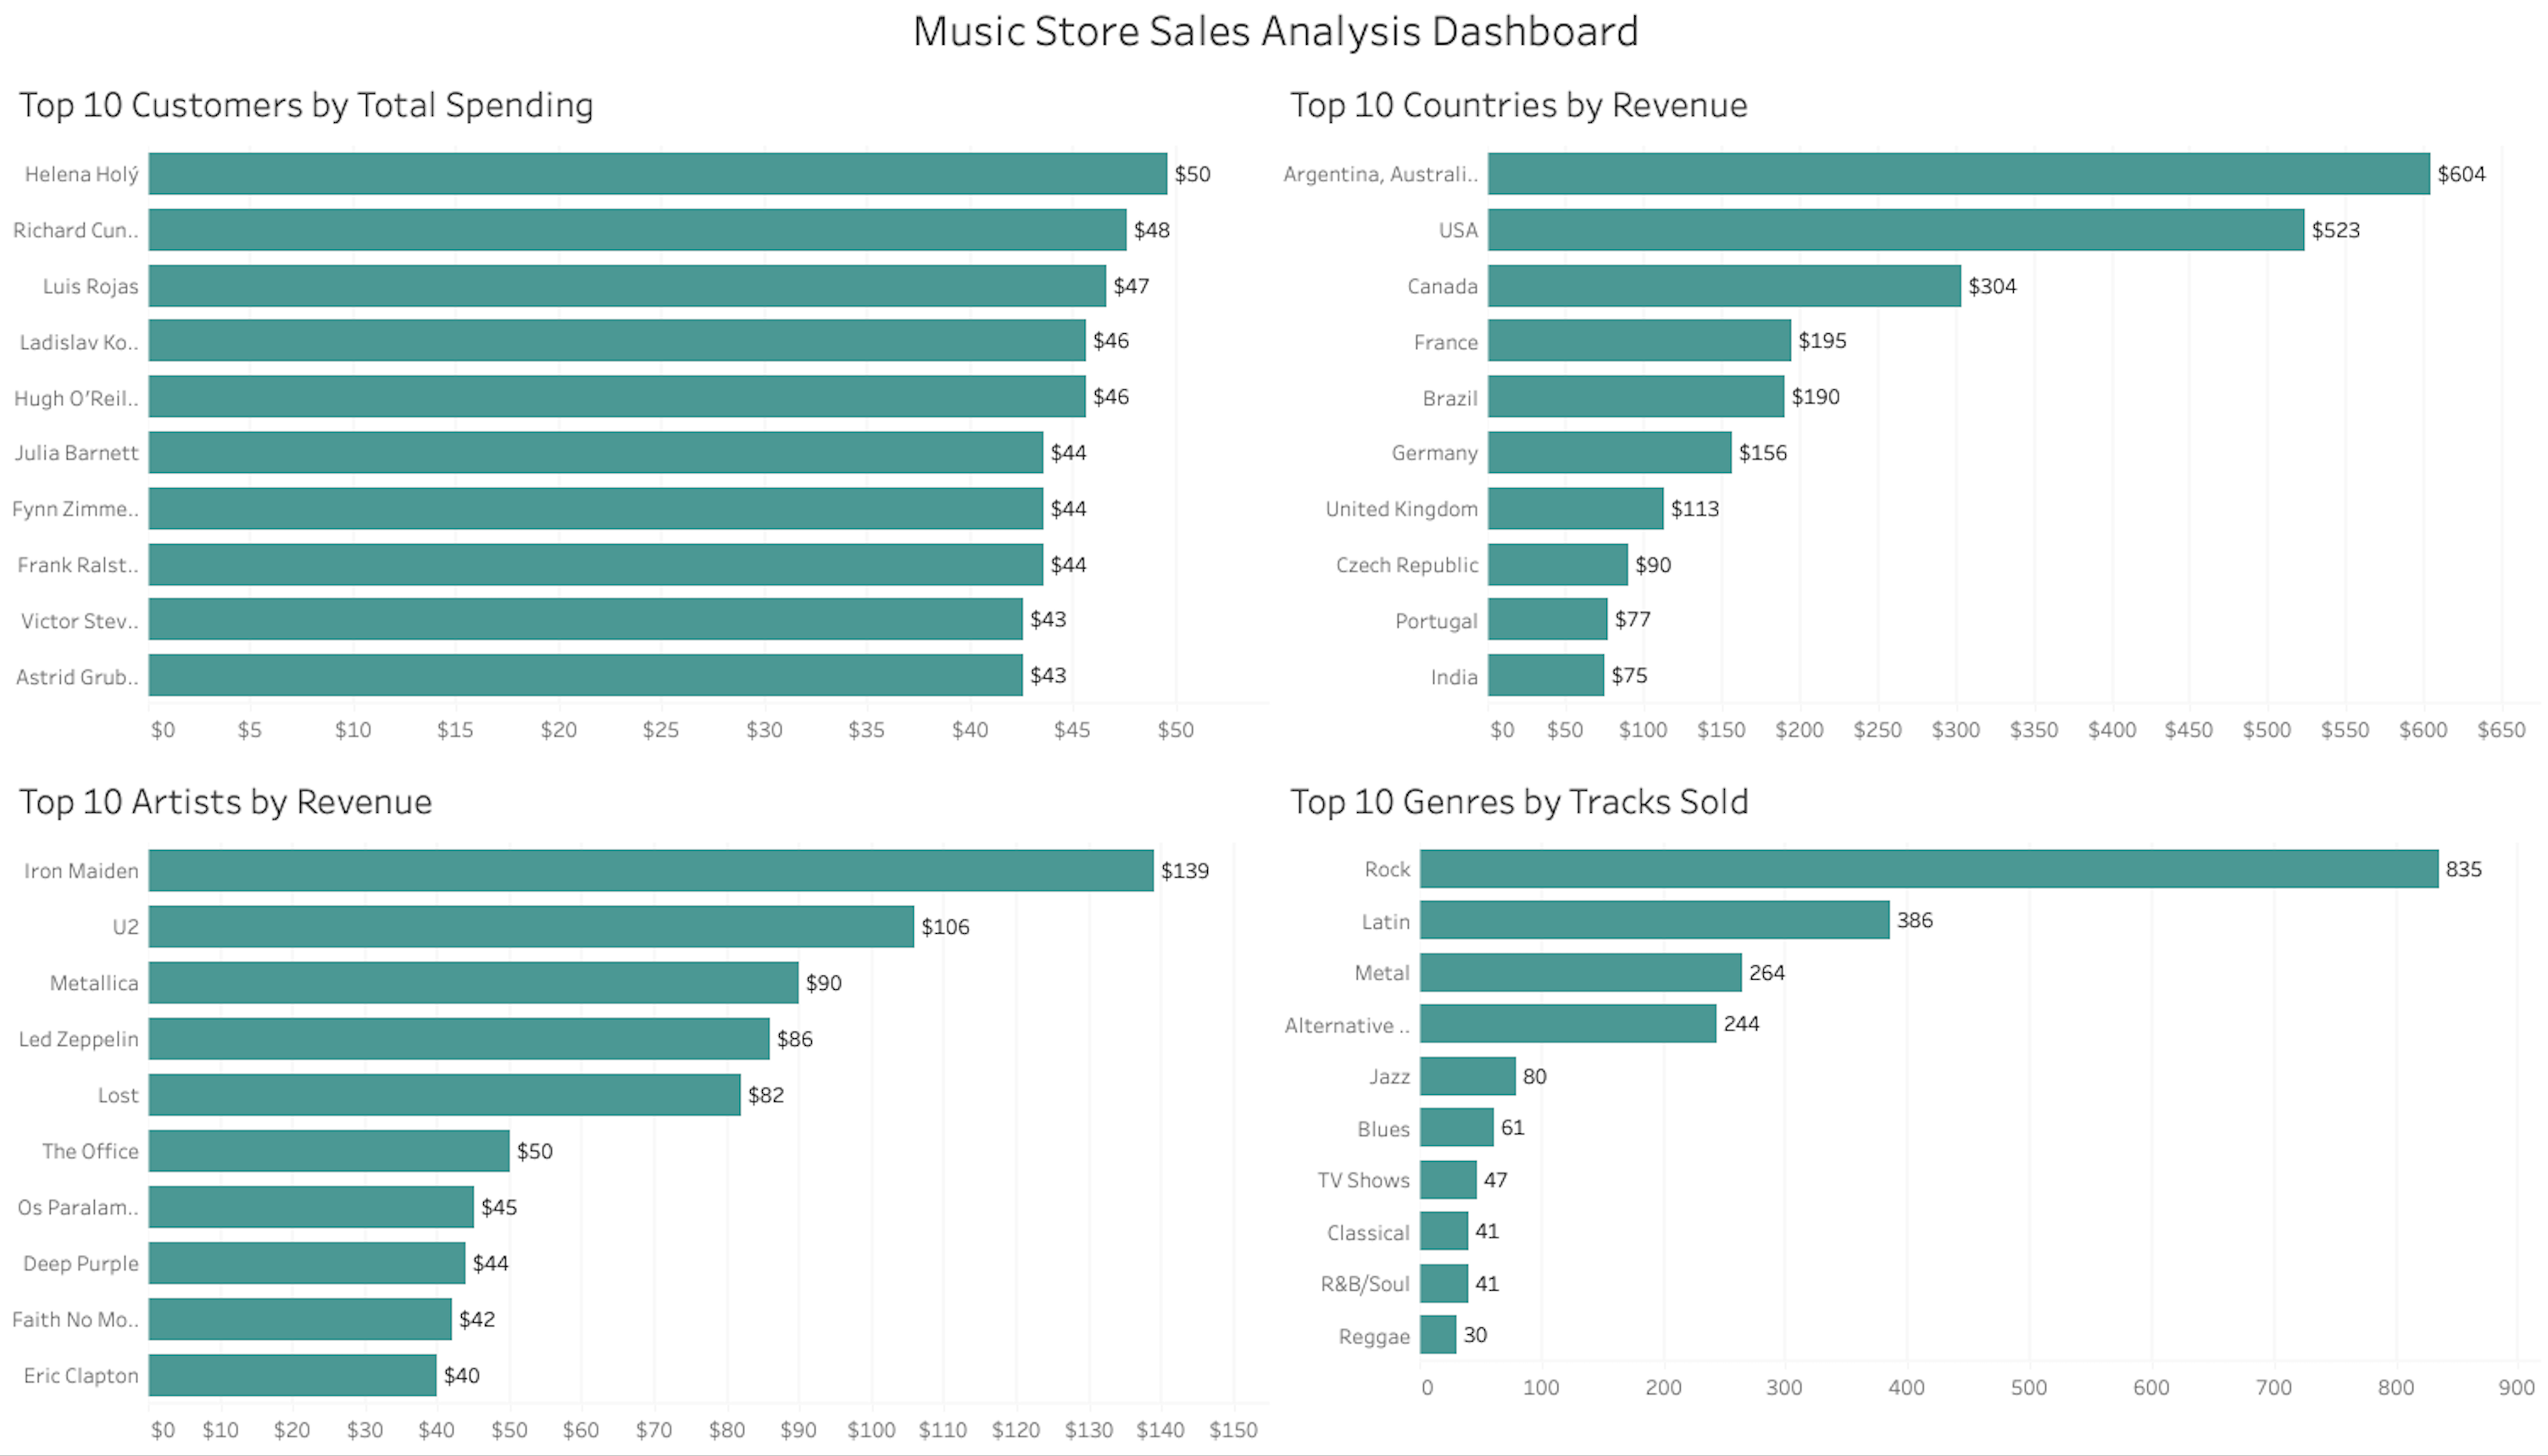

The page's visual inventory and layout, read from the dashboard file:
{"tool":"tableau","page":{"name":"Music Store Sales Analysis Dashboard","canvas":[1000,1000],"units":"permille","ordinal":0},"visuals":[{"type":"title","box":[6.2,11,987.7,57.5]},{"type":"worksheet","title":"Top 10 Customers by Total Spending","mark":"Bar","rows":["Calculation_1501503137280000"],"cols":["total_spent"],"box":[6.2,68.5,493.9,460.3]},{"type":"worksheet","title":"Top 10 Countries by Revenue","mark":"Bar","cols":["total_revenue"],"box":[500,68.5,493.9,460.3]},{"type":"worksheet","title":"Top 10 Artists by Revenue","mark":"Automatic","rows":["artist_name"],"cols":["revenue"],"box":[6.2,528.8,493.9,460.3]},{"type":"worksheet","title":"Top 10 Genres by Tracks Sold","mark":"Bar","rows":["genre_name"],"cols":["total_tracks_sold"],"box":[500,528.8,493.9,460.3]}]}

Visuals, with their boxes on the dashboard's canvas, which has no fixed pixel size, in thousandths of its width and height (x1, y1, x2, y2). These are canvas units, not pixel positions in the 2548x1456 screenshot, which may show the page scaled, cropped or inside an application window:
title: bbox(6, 11, 994, 68)
"Top 10 Customers by Total Spending" worksheet (Bar marks): bbox(6, 68, 500, 529)
"Top 10 Countries by Revenue" worksheet (Bar marks): bbox(500, 68, 994, 529)
"Top 10 Artists by Revenue" worksheet: bbox(6, 529, 500, 989)
"Top 10 Genres by Tracks Sold" worksheet (Bar marks): bbox(500, 529, 994, 989)
